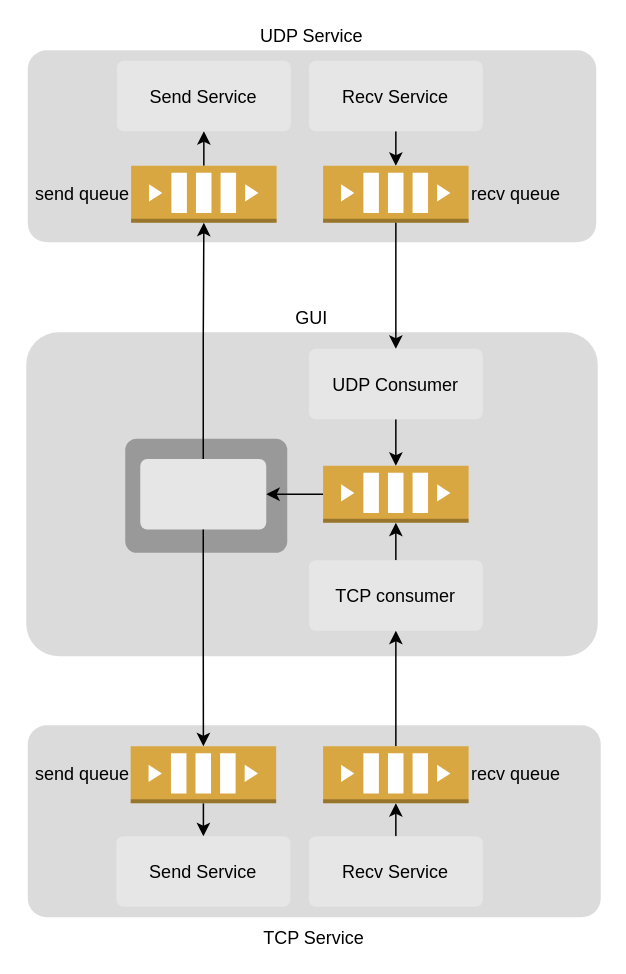
The diagram is 626 pixels wide and 974 high, and some of its shapes have lost their labels. The shapes that lost their labels are listed below. From the top down, each one's box as (x1, y1, x2, y2) in pixels, then its label:
(140, 458, 266, 529): Update Routine
(124, 438, 286, 552): Main Loop
(322, 464, 469, 523): Event Queue
